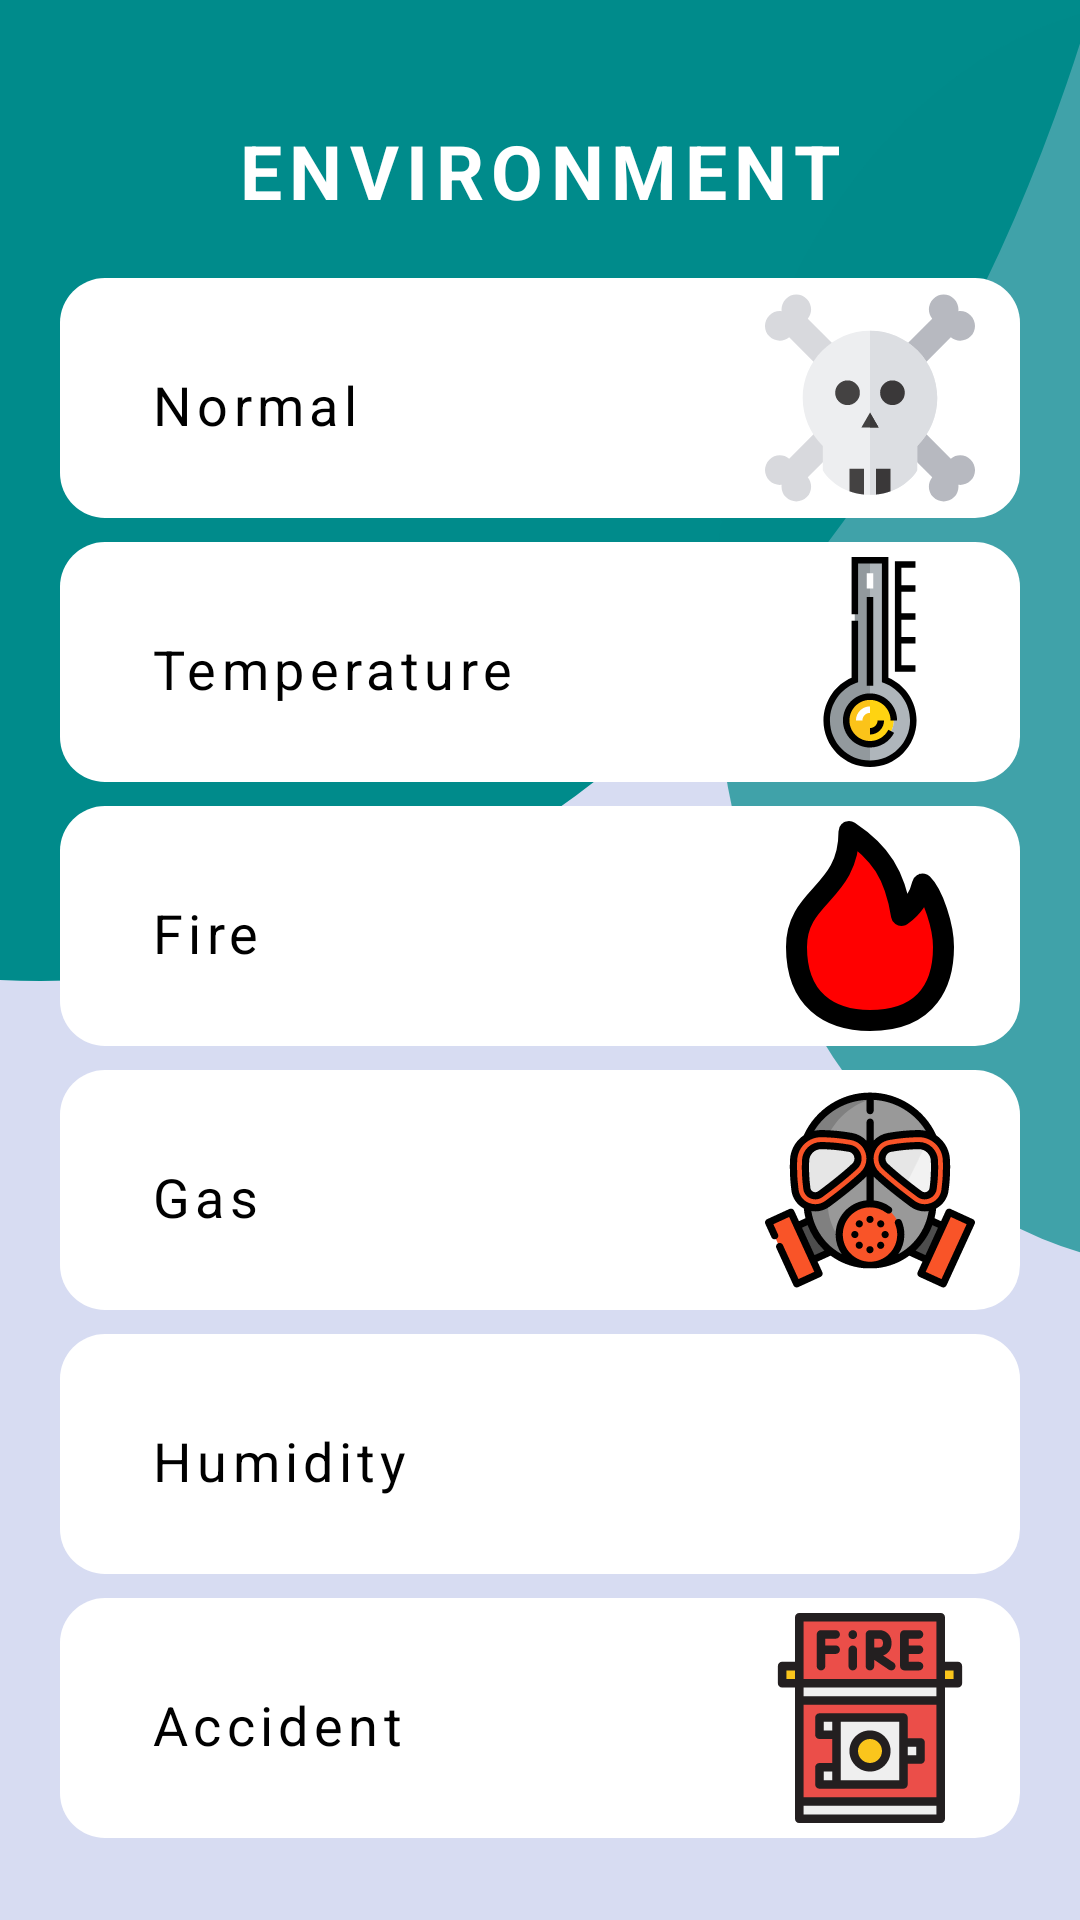

Icon click points for this 1080w x 1920h phone screenshot, format [x,y]:
death warning: [870,398]
fire: [870,926]
gas: [870,1190]
temperature: [870,662]
